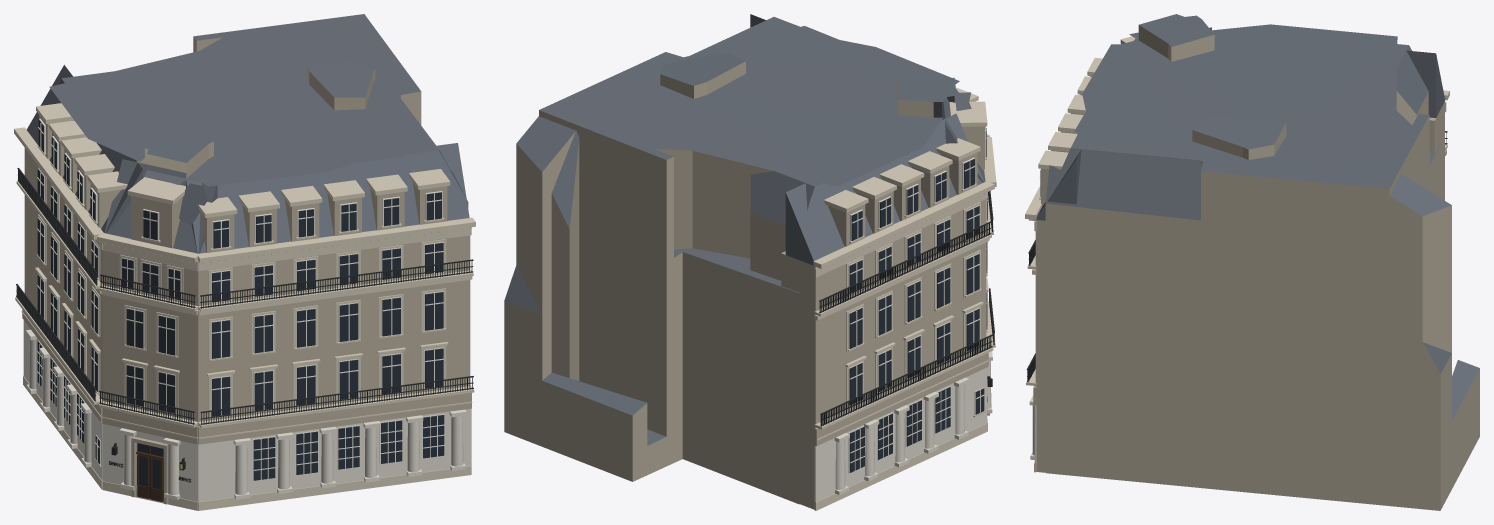
File: banks-mansion.glb
The picture shows the model from 3 angles, left to right: view 1: azimuth 30°, elevation 25°; view 2: azimuth 150°, elevation 25°; view 3: azimuth 270°, elevation 25°; orthographic projection. The views are drawn at different scales.
Parts seen in each view (by area): view 1: banks-mansion; view 2: banks-mansion; view 3: banks-mansion.
Boxes of the visible parts, left/top/right/bottom form: banks-mansion: left=14, top=14, right=475, bottom=510; banks-mansion: left=504, top=14, right=996, bottom=510; banks-mansion: left=1025, top=14, right=1479, bottom=510.
Bounding box in the file's own units: 27.44 × 22.88 × 28.31.
